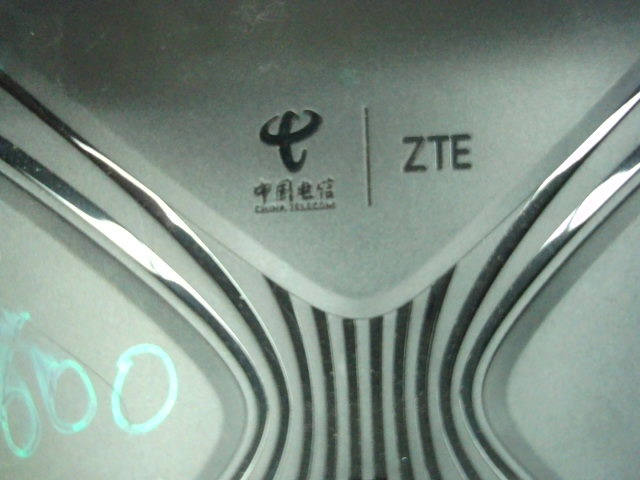AX_ZTEChinaTelecom: (235, 106, 476, 217)
